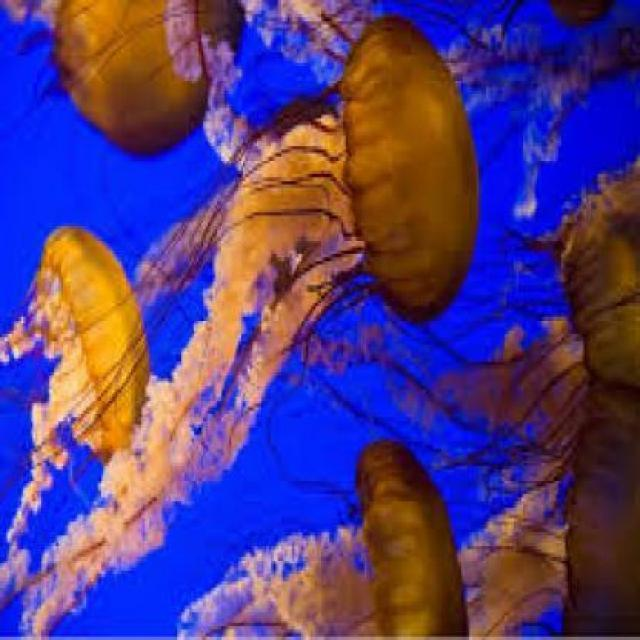Jellyfish: (173, 6, 482, 411), (189, 431, 469, 637)
